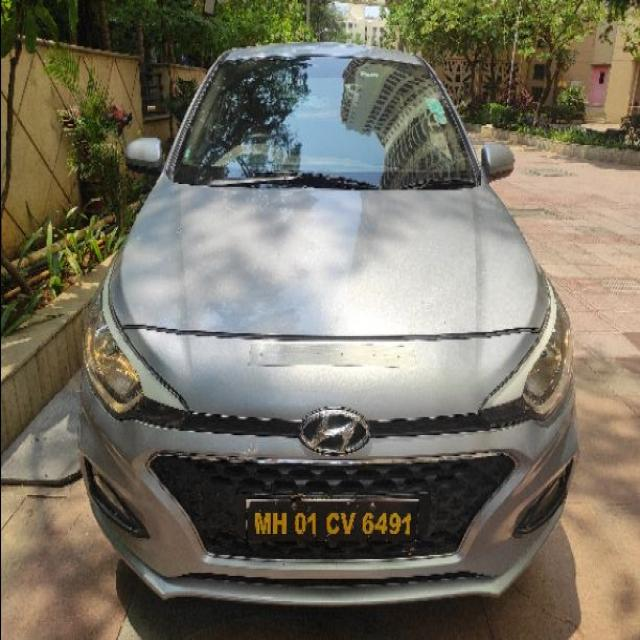license_plate: (78, 39, 580, 608), (242, 491, 422, 548)
